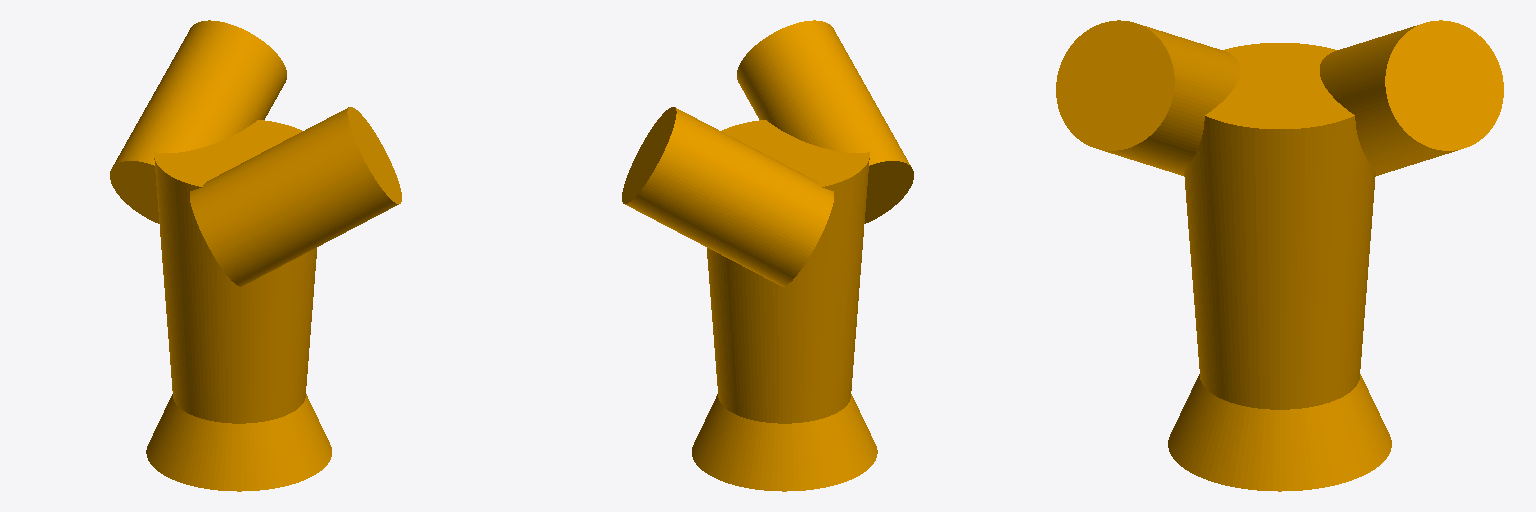
URDF robot description (nv0.1):
<robot name ="nv0.1">
	<link name="map">
		<visual>
			<geometry>
				<mesh filename="package://enesbot_dualarm/meshes/v0_1/nv01base.stl"/>
			</geometry>
		</visual>
	</link>
	<link name="uarmR">
		<visual>
			<geometry>
				<mesh filename="package://enesbot_dualarm/meshes/v0_1/nv01shoulder.stl"/>
			</geometry>
		</visual>
 	</link>
	<link name="bicepR">
		<visual>
			<geometry>
				<mesh filename="package://enesbot_dualarm/meshes/v0_1/nv01shoulder2.stl"/>
			</geometry>
		</visual>
	</link>
	<link name="forearmR">
		<visual>
			<geometry>
				<mesh filename="package://enesbot_dualarm/meshes/v0_1/nv01shoulder.stl"/>
			</geometry>
		</visual>
 	</link>
	<link name="forearm2R">
		<visual>
			<geometry>
				<mesh filename="package://enesbot_dualarm/meshes/v0_1/nv01shoulder2.stl"/>
			</geometry>
		</visual>
	</link>
	<link name="wristR">
		<visual>
			<geometry>
				<mesh filename="package://enesbot_dualarm/meshes/v0_1/nv01shoulder.stl"/>
			</geometry>
		</visual>
	</link>
	<link name="wrist2R">
		<visual>
			<geometry>
				<mesh filename="package://enesbot_dualarm/meshes/v0_1/nv01shoulder2.stl"/>
			</geometry>
		</visual>
	</link>
	<link name="toolR">
		<visual>
			<material name = "white">
				<color rgba="1 1 1 1"/>
			</material>
			<geometry>
				<mesh filename="package://enesbot_dualarm/meshes/v0_1/nv01tool.stl"/>
			</geometry>
		</visual>
	</link>
	<link name="uarmL">
		<visual>
			<geometry>
				<mesh filename="package://enesbot_dualarm/meshes/v0_1/nv01shoulder.stl"/>
			</geometry>
		</visual>
	</link>
	<link name="bicepL">
		<visual>
			<geometry>
				<mesh filename="package://enesbot_dualarm/meshes/v0_1/nv01shoulder2.stl"/>
			</geometry>
		</visual>
 	</link>
	<link name="forearmL">
		<visual>
			<geometry>
				<mesh filename="package://enesbot_dualarm/meshes/v0_1/nv01shoulder.stl"/>
			</geometry>
		</visual>
	</link>
	<link name="forearm2L">
		<visual>
			<geometry>
				<mesh filename="package://enesbot_dualarm/meshes/v0_1/nv01shoulder2.stl"/>
			</geometry>
		</visual>
	</link>
	<link name="wristL">
		<visual>
			<geometry>
				<mesh filename="package://enesbot_dualarm/meshes/v0_1/nv01shoulder.stl"/>
			</geometry>
		</visual>
	</link>
	<link name="wrist2L">
		<visual>
			<geometry>
				<mesh filename="package://enesbot_dualarm/meshes/v0_1/nv01shoulder2.stl"/>
			</geometry>
		</visual>
	</link>
	<link name="toolL">
		<visual>
			<material name = "white">
				<color rgba="1 1 1 1"/>
			</material>
			<geometry>
				<mesh filename="package://enesbot_dualarm/meshes/v0_1/nv01tool.stl"/>
			</geometry>
		</visual>
	</link>

	<joint name="baseR" type="continuous">
		<parent link="map"/>
		<child link="uarmR"/>
		<origin xyz = "0 -0.15 0.4" rpy="0 -0.523599 -0.523599"/>

	</joint>

	<joint name="shoulderR" type="continuous">
		<parent link="uarmR"/>
		<child link="bicepR"/>
		<origin xyz = "0.1 0 0" />
		<axis xyz="0 0 1"/>
	</joint>

	<joint name="showlder2R" type="continuous">
		<parent link="bicepR"/>
		<child link="forearmR"/>
		<origin xyz = "0.1 0 0" />
		<axis xyz="1 0 0"/>
	</joint>

	<joint name="elbowR" type="continuous">
		<parent link="forearmR"/>
		<child link="forearm2R"/>
		<origin xyz = "0.1 0 0" />
		<axis xyz="0 0 1"/>
	</joint>

	<joint name="elbow2R" type="continuous">
		<parent link="forearm2R"/>
		<child link="wristR"/>
		<origin xyz = "0.1 0 0" />
		<axis xyz="1 0 0"/>
	</joint>

	<joint name="wristR" type="continuous">
		<parent link="wristR"/>
		<child link="wrist2R"/>
		<origin xyz = "0.1 0 0" />
		<axis xyz="0 0 1"/>
	</joint>

	<joint name="toolR" type="continuous">
		<parent link="wrist2R"/>
		<child link="toolR"/>
		<origin xyz = "0.1 0 0" />
		<axis xyz="1 0 0"/>
	</joint>

	<joint name="baseL" type="continuous">
		<parent link="map"/>
		<child link="uarmL"/>
		<origin xyz = "0 0.15 0.4" rpy="0 -0.523599 0.523599"/>
		<axis xyz="1 0 0"/>
	</joint>

	<joint name="shoulderL" type="continuous">
		<parent link="uarmL"/>
		<child link="bicepL"/>
		<origin xyz = "0.1 0 0" />
		<axis xyz="0 0 1"/>
	</joint>

	<joint name="showlder2L" type="continuous">
		<parent link="bicepL"/>
		<child link="forearmL"/>
		<origin xyz = "0.1 0 0" />
		<axis xyz="1 0 0"/>
	</joint>

	<joint name="elbowL" type="continuous">
		<parent link="forearmL"/>
		<child link="forearm2L"/>
		<origin xyz = "0.1 0 0" />
		<axis xyz="0 0 1"/>
	</joint>

	<joint name="elbow2L" type="continuous">
		<parent link="forearm2L"/>
		<child link="wristL"/>
		<origin xyz = "0.1 0 0" />
		<axis xyz="1 0 0"/>
	</joint>

	<joint name="wristL" type="continuous">
		<parent link="wristL"/>
		<child link="wrist2L"/>
		<origin xyz = "0.1 0 0" />
		<axis xyz="0 0 1"/>
	</joint>

	<joint name="toolL" type="continuous">
		<parent link="wrist2L"/>
		<child link="toolL"/>
		<origin xyz = "0.1 0 0" />
		<axis xyz="1 0 0"/>
	</joint>
</robot>

--- What the picture shows (computed from the rendered views, not written in the file) ---
3 views of the same robot in one strip: view 1: azimuth 30°, elevation 25°; view 2: azimuth 150°, elevation 25°; view 3: azimuth 270°, elevation 25° (orthographic).
Robot: nv0.1 — 15 links, 14 joints (14 continuous); root link map; default pose: every joint at zero.
Visible links, largest first — view 1: map; view 2: map; view 3: map.
Boxes of the visible links, x1,y1,x2,y2 form: map: (110, 20, 401, 491); map: (622, 20, 913, 491); map: (1056, 20, 1503, 491).
Size in the robot's own frame: 0.2294 by 0.4081 by 0.452 metres.
1 mesh visuals loaded from 4 distinct referenced files (1 binary STL); not drawn: 14 (reference not matched to a file when rendering).